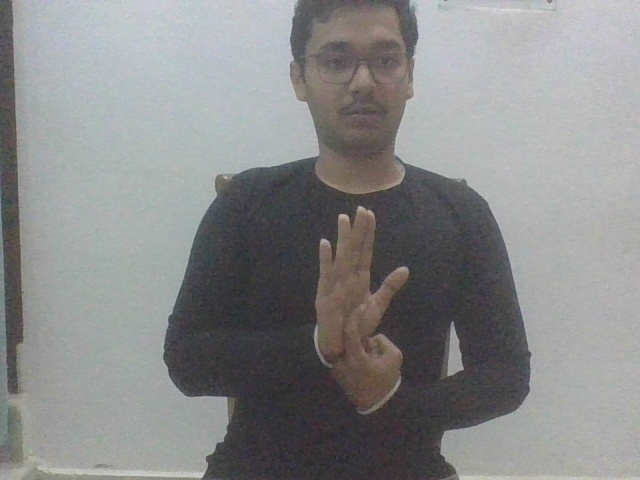R: (309, 205, 410, 421)
